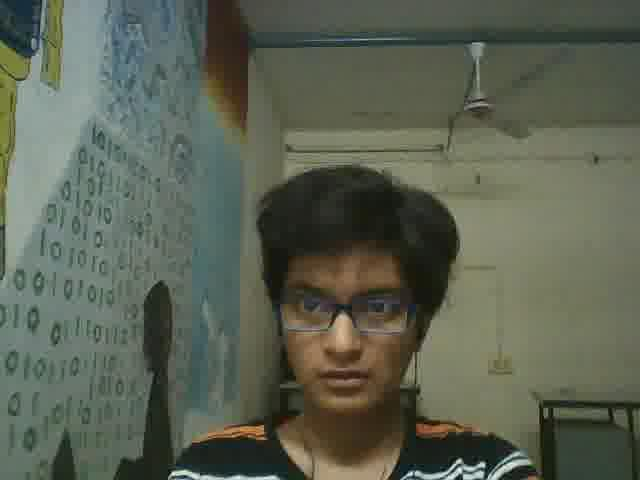bingung: (274, 241, 411, 420)
